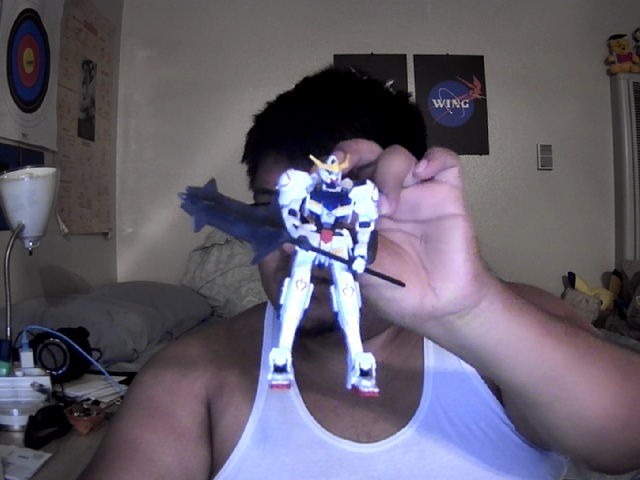Barbatos: (178, 153, 407, 402)
